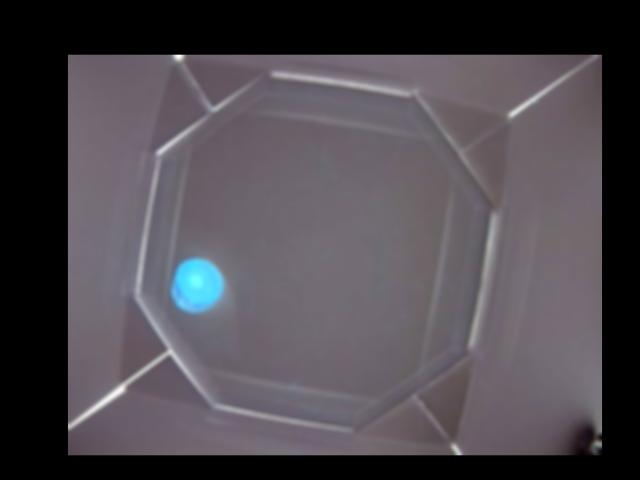Carrot: (171, 259, 219, 311)
